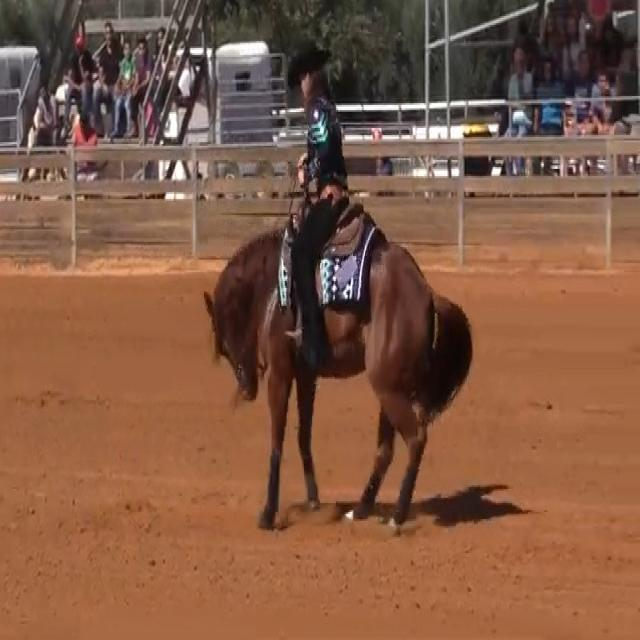horse: (201, 199, 474, 533)
